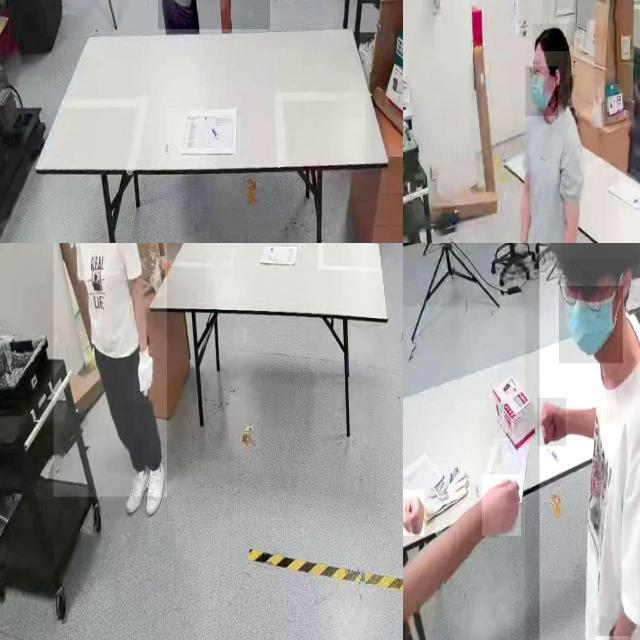face_mask: (559, 286, 623, 363), (526, 66, 558, 116)
glasses: (557, 270, 608, 316)
hand_glove: (134, 343, 154, 404)
hand_noglove: (482, 474, 522, 536), (538, 398, 566, 447), (403, 489, 425, 536)
head_nohelmet: (552, 243, 635, 260), (533, 24, 569, 52)
person: (403, 306, 525, 640), (539, 243, 640, 640), (53, 243, 167, 497), (509, 15, 588, 243), (157, 0, 270, 30)
shoes: (144, 459, 168, 520), (124, 462, 148, 514)
